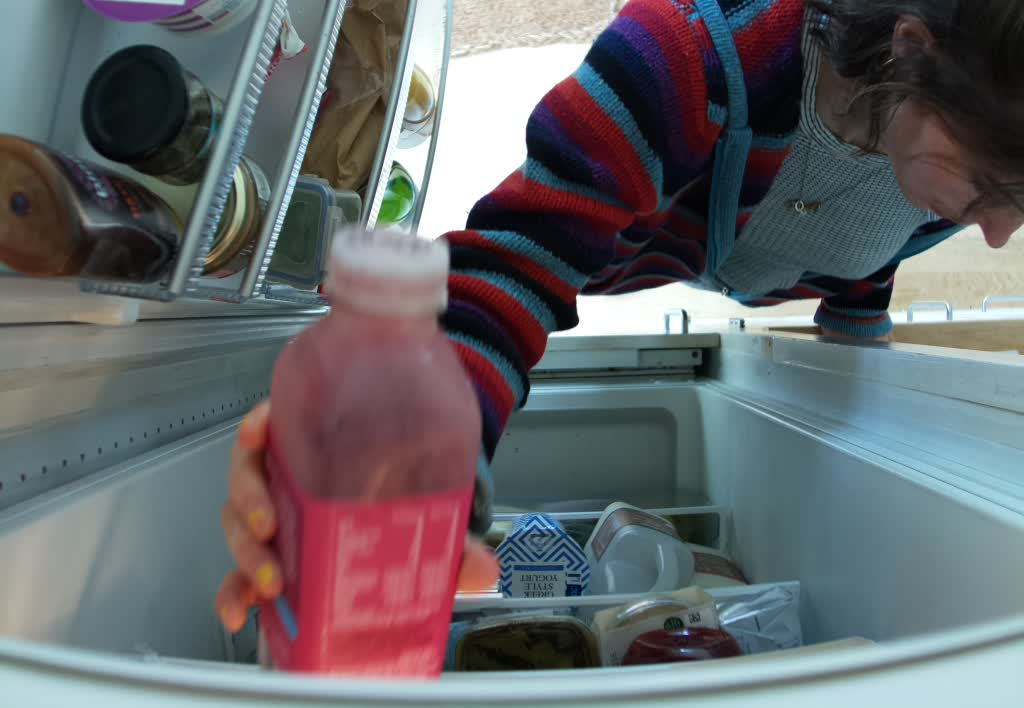juice: (261, 217, 480, 691)
